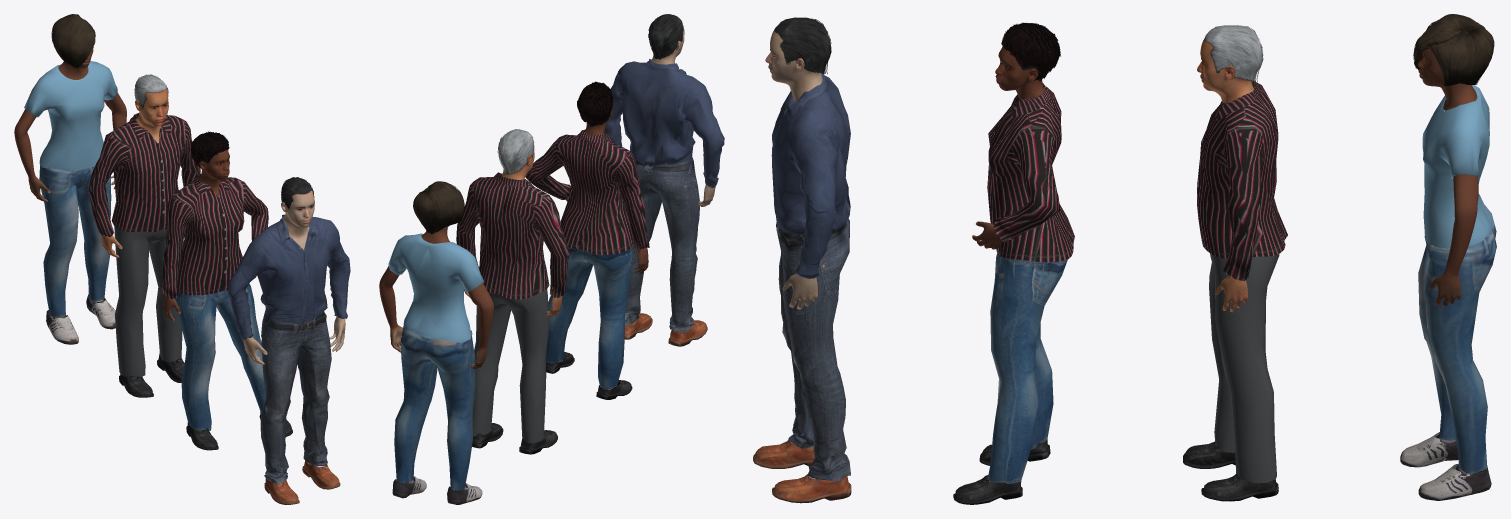
File: avery-morgan-rowan-and-sage-3d-person-queue-of-four.glb
3 views of the same model, side by side, from view 1: azimuth 30°, elevation 25°; view 2: azimuth 150°, elevation 25°; view 3: azimuth 270°, elevation 25° (orthographic). The views are drawn at different scales.
Parts seen in each view (by area): view 1: male_casualsuit01, male_casualsuit03.001, male_casualsuit03, female_casualsuit01, Sage | anatomical body, Avery | anatomical body, bob01, Rowan | anatomical body, shoes05, shoes01, Morgan | anatomical body, shoes04.001 (+4 smaller); view 2: male_casualsuit03.001, male_casualsuit01, male_casualsuit03, female_casualsuit01, Sage | anatomical body, bob01, short04.001, afro01, short04, shoes05, shoes01, shoes04.001 (+4 smaller); view 3: male_casualsuit03.001, male_casualsuit03, male_casualsuit01, female_casualsuit01, Sage | anatomical body, bob01, shoes05, shoes01, Avery | anatomical body, shoes04.001, short04.001, short04 (+4 smaller).
Part boxes in pixels (x1,y1,x2,y2): male_casualsuit01: [227, 214, 350, 483]; male_casualsuit03.001: [88, 113, 200, 376]; male_casualsuit03: [161, 173, 268, 430]; female_casualsuit01: [24, 61, 117, 316]; Sage | anatomical body: [14, 47, 126, 201]; Avery | anatomical body: [243, 190, 345, 364]; bob01: [51, 14, 95, 67]; Rowan | anatomical body: [101, 88, 168, 257]; shoes05: [46, 294, 115, 344]; shoes01: [264, 460, 340, 504]; Morgan | anatomical body: [162, 150, 229, 321]; shoes04.001: [119, 353, 184, 397]; male_casualsuit03.001: [456, 172, 569, 442]; male_casualsuit01: [604, 59, 724, 332]; male_casualsuit03: [525, 129, 649, 389]; female_casualsuit01: [388, 233, 484, 490]; Sage | anatomical body: [379, 226, 493, 369]; bob01: [413, 181, 464, 234]; short04.001: [497, 129, 534, 174]; afro01: [577, 81, 613, 126]; short04: [648, 14, 683, 59]; shoes05: [392, 476, 482, 504]; shoes01: [624, 313, 707, 346]; shoes04.001: [472, 423, 557, 454]; male_casualsuit03.001: [1197, 81, 1287, 483]; male_casualsuit03: [987, 82, 1074, 483]; male_casualsuit01: [771, 73, 850, 481]; female_casualsuit01: [1418, 85, 1496, 473]; Sage | anatomical body: [1417, 48, 1478, 307]; bob01: [1413, 14, 1494, 85]; shoes05: [1400, 432, 1491, 500]; shoes01: [753, 440, 851, 503]; Avery | anatomical body: [765, 30, 822, 309]; shoes04.001: [1183, 441, 1278, 501]; short04.001: [1204, 25, 1263, 81]; short04: [774, 17, 831, 73].
Size of the model in its own units: 0.7105 by 1.77 by 2.6.
37 materials, 37 textured.
